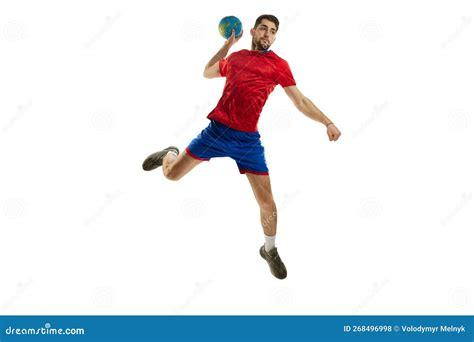ballon_handball: (218, 14, 244, 41)
